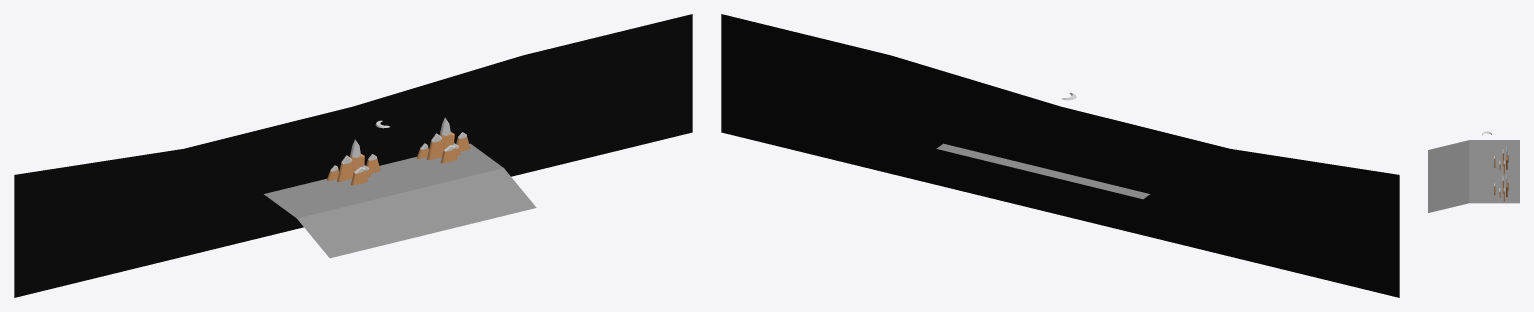
Rendered from Mountain.FBX.
The picture shows the model from 3 angles, left to right: view 1: azimuth 30°, elevation 25°; view 2: azimuth 150°, elevation 25°; view 3: azimuth 270°, elevation 25°; orthographic projection. The views are drawn at different scales.
Parts seen in each view (by area): view 1: Plane002, Plane013; view 2: Plane002, Plane013; view 3: Plane013.
Boxes of the visible parts, <box> form: Plane002: <box>14,14,692,297</box>; Plane013: <box>264,143,536,258</box>; Plane002: <box>721,14,1399,297</box>; Plane013: <box>936,143,1149,199</box>; Plane013: <box>1428,140,1519,212</box>.
Bounding box in the file's own units: 57967 × 10051 × 10848.
4 materials, 2 textured.
